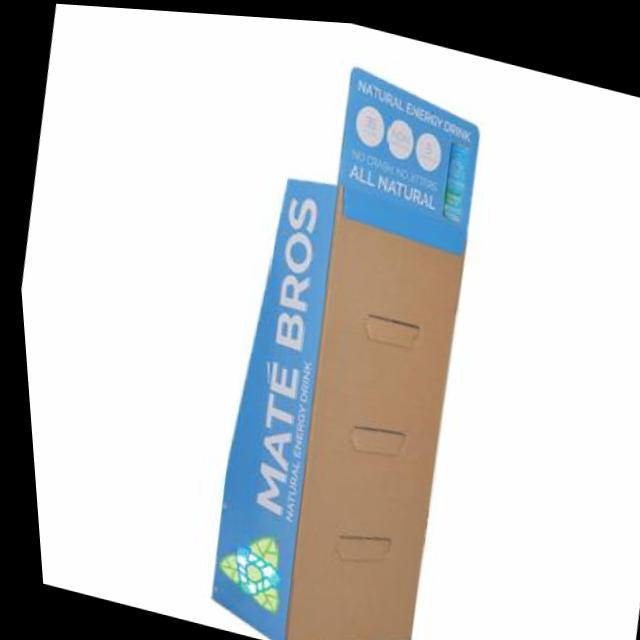box: (146, 8, 548, 640)
